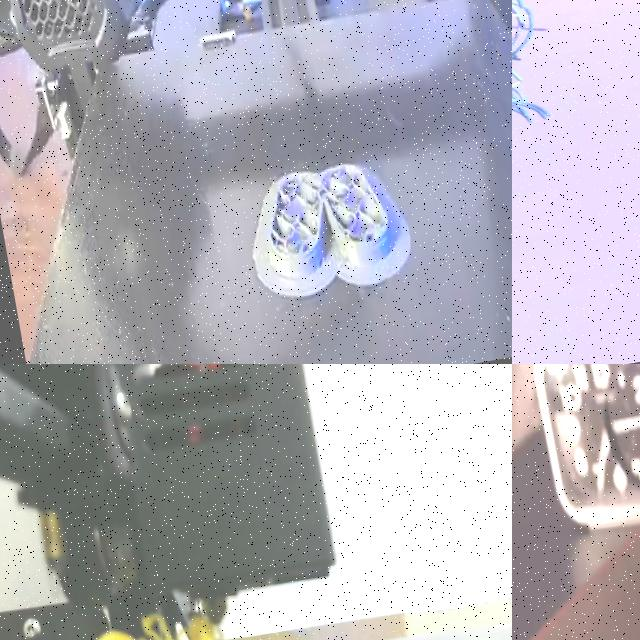spaghetti: (78, 600, 241, 640)
